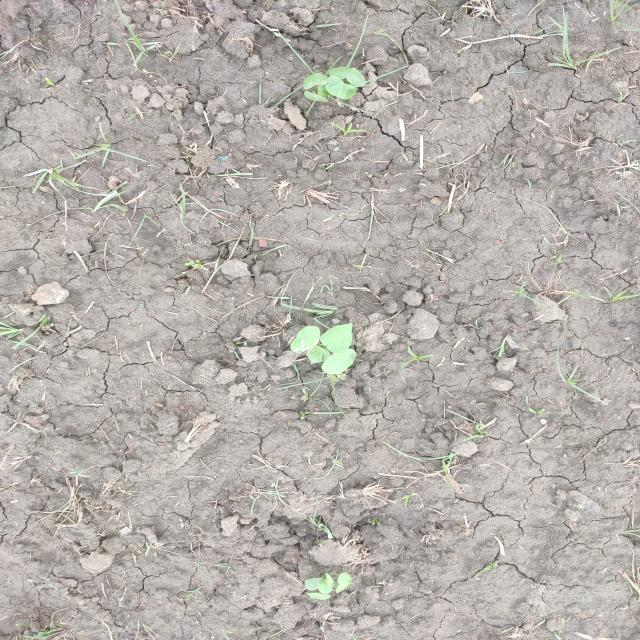seedling: (320, 322, 353, 353), (321, 349, 357, 375), (290, 326, 320, 353), (325, 76, 356, 100), (329, 67, 366, 86), (306, 346, 330, 364), (303, 73, 328, 90), (336, 572, 352, 593), (318, 573, 333, 594), (304, 91, 329, 102), (304, 578, 323, 591), (306, 593, 331, 600), (317, 85, 329, 97)
